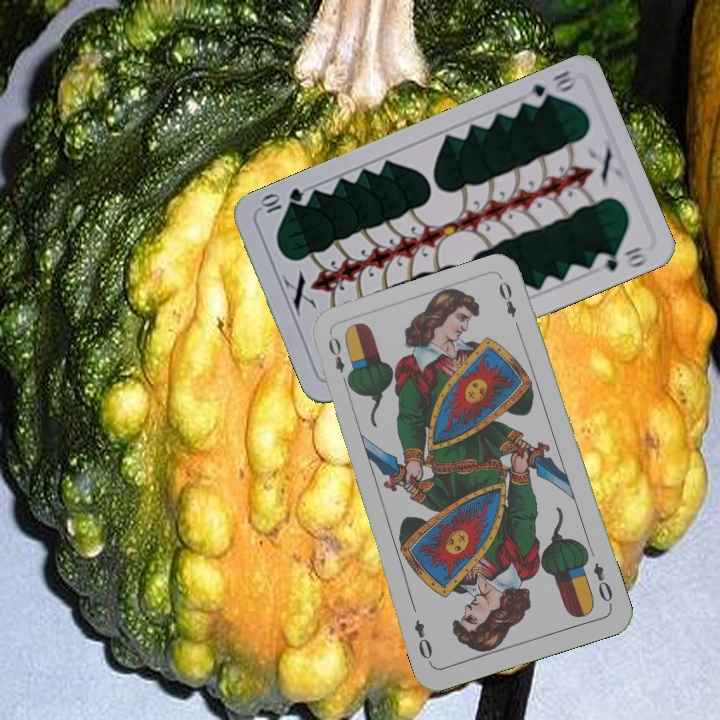EO: (324, 333, 353, 389), (589, 558, 616, 609)
G10: (520, 66, 577, 110)
